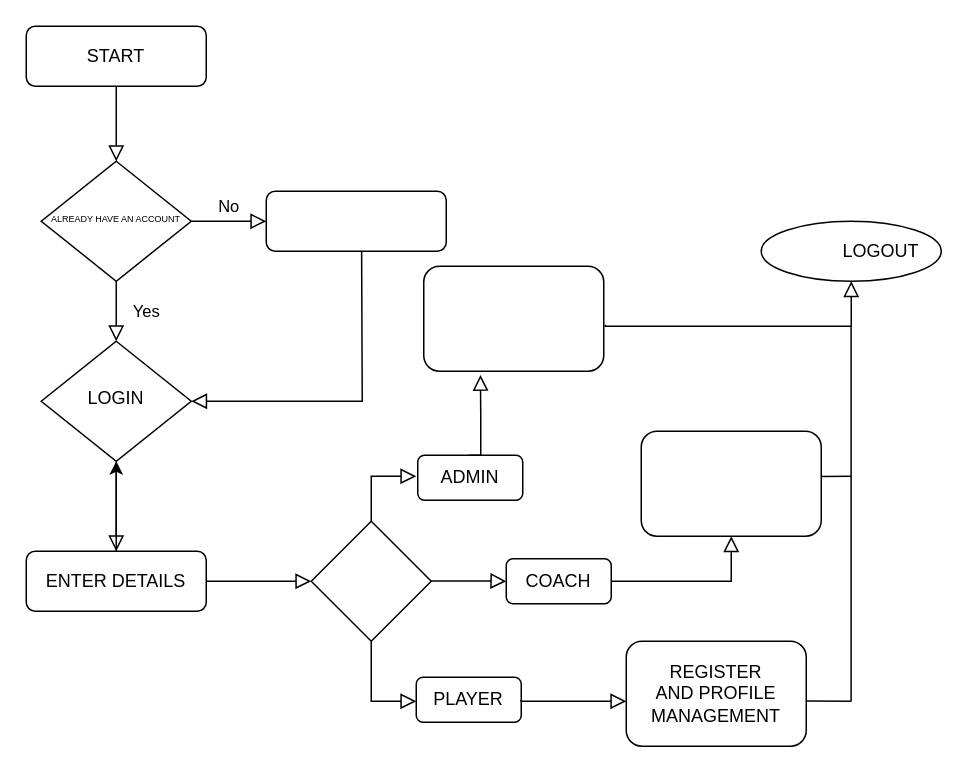
Image size: 968x773. Some labels were removed from this diagram. The shapes that lost their labels are listed below. From the top down, each one's centre as x and y in pixels, then its label:
the point at 355,220: CREATE NEW
the point at 513,318: ORGANIZE THE EVENTS
the point at 730,483: MANAGE TEAM AND STATS
the point at 370,580: SELECT ROLE
